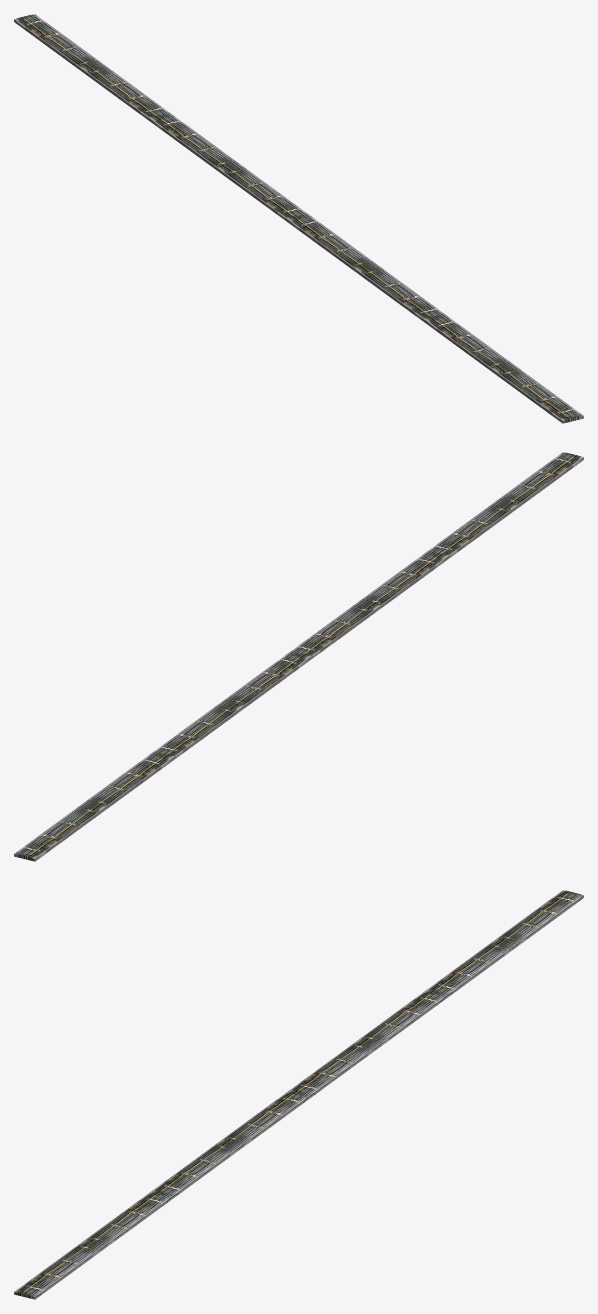
File: Crane01_Wires04.FBX
3 renders of one model, top to bottom at view 1: azimuth 30°, elevation 25°; view 2: azimuth 150°, elevation 25°; view 3: azimuth 330°, elevation 25°, orthographic.
Parts seen in each view (by area): view 1: Crane1Wires4; view 2: Crane1Wires4; view 3: Crane1Wires4.
Boxes of the visible parts, <box> form: Crane1Wires4: <box>14,14,583,423</box>; Crane1Wires4: <box>14,452,583,861</box>; Crane1Wires4: <box>14,890,583,1299</box>.
Bounding box in the file's own units: 60 × 8.36 × 2687.
